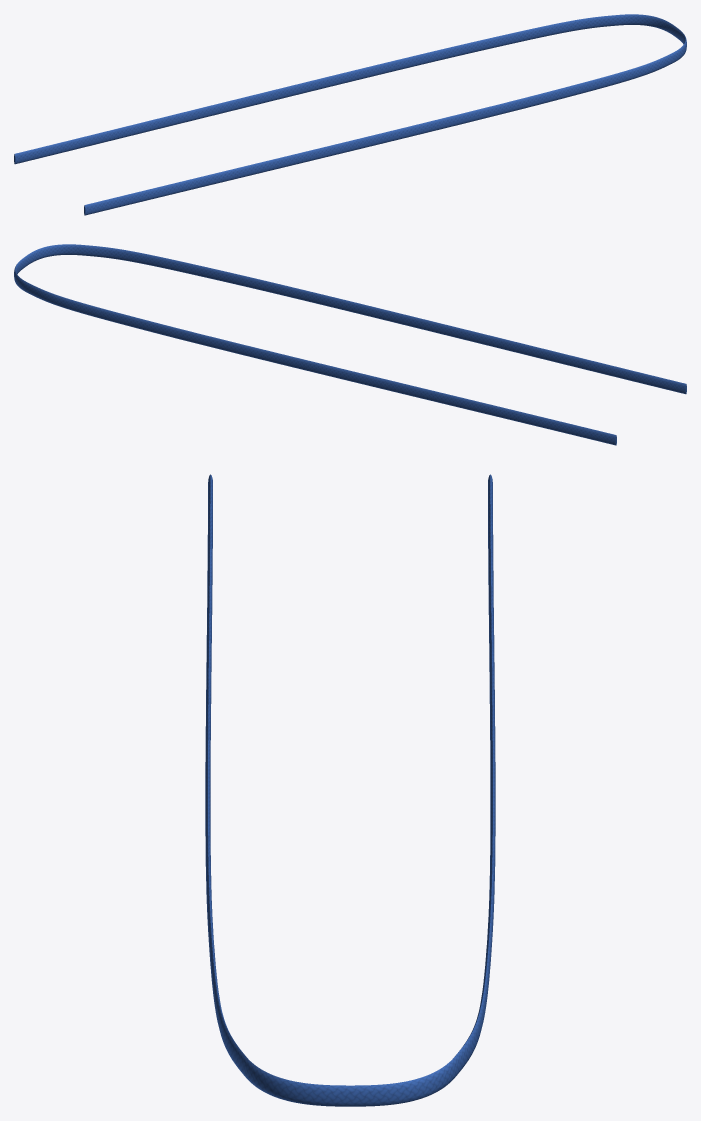
File: orthotape.glb
3 views of the same model, one above another, from view 1: azimuth 30°, elevation 25°; view 2: azimuth 150°, elevation 25°; view 3: azimuth 270°, elevation 25° (orthographic). The views are drawn at different scales.
Visible parts, largest first — view 1: tape; view 2: tape; view 3: tape.
Boxes of the visible parts, x1,y1,x2,y2 form: tape: (14, 14, 686, 215); tape: (14, 244, 686, 445); tape: (205, 474, 495, 1106).
Size of the model in its own units: 0.1242 by 0.002 by 0.0249.
1 material, 1 textured.
